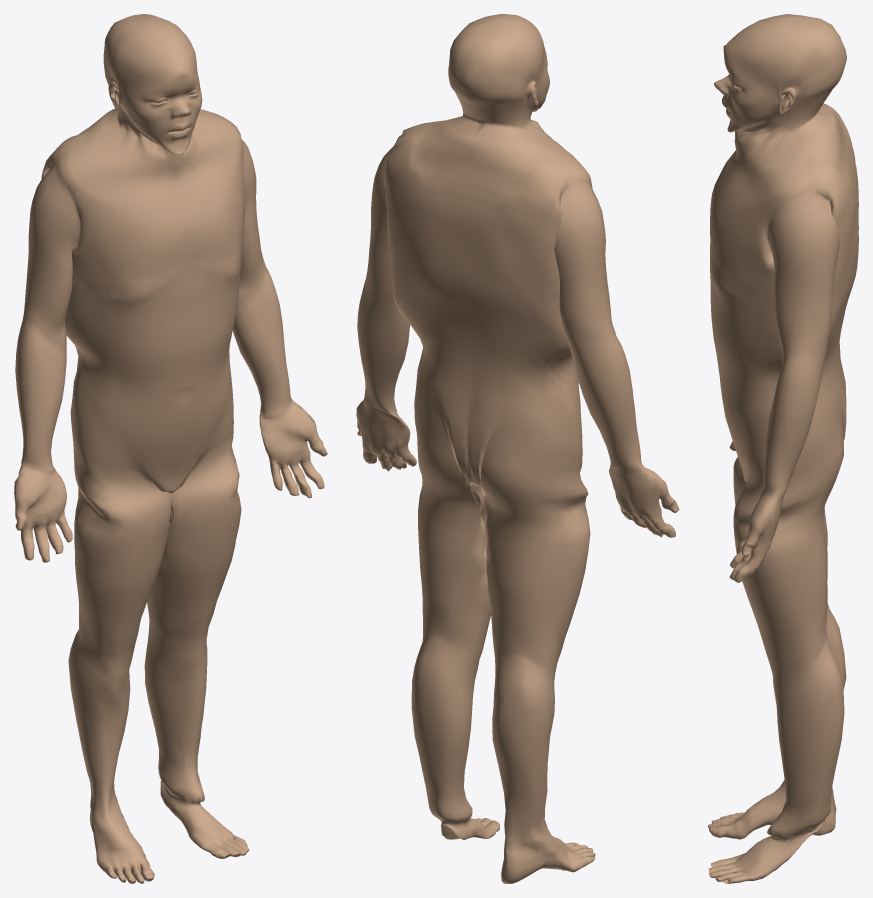
The model's file is skin-candidate-f1c1.glb.
3 renders of one model, left to right at view 1: azimuth 30°, elevation 25°; view 2: azimuth 150°, elevation 25°; view 3: azimuth 270°, elevation 25°, orthographic. The views are drawn at different scales.
Parts seen in each view (by area): view 1: MakeHuman_AT10_skin_fit_candidate_f1c1; view 2: MakeHuman_AT10_skin_fit_candidate_f1c1; view 3: MakeHuman_AT10_skin_fit_candidate_f1c1.
Part boxes in pixels (x1,y1,x2,y2): MakeHuman_AT10_skin_fit_candidate_f1c1: [14, 14, 327, 883]; MakeHuman_AT10_skin_fit_candidate_f1c1: [356, 14, 679, 883]; MakeHuman_AT10_skin_fit_candidate_f1c1: [708, 14, 858, 883].
Bounding box in the file's own units: 0.6758 × 1.72 × 0.2809.
